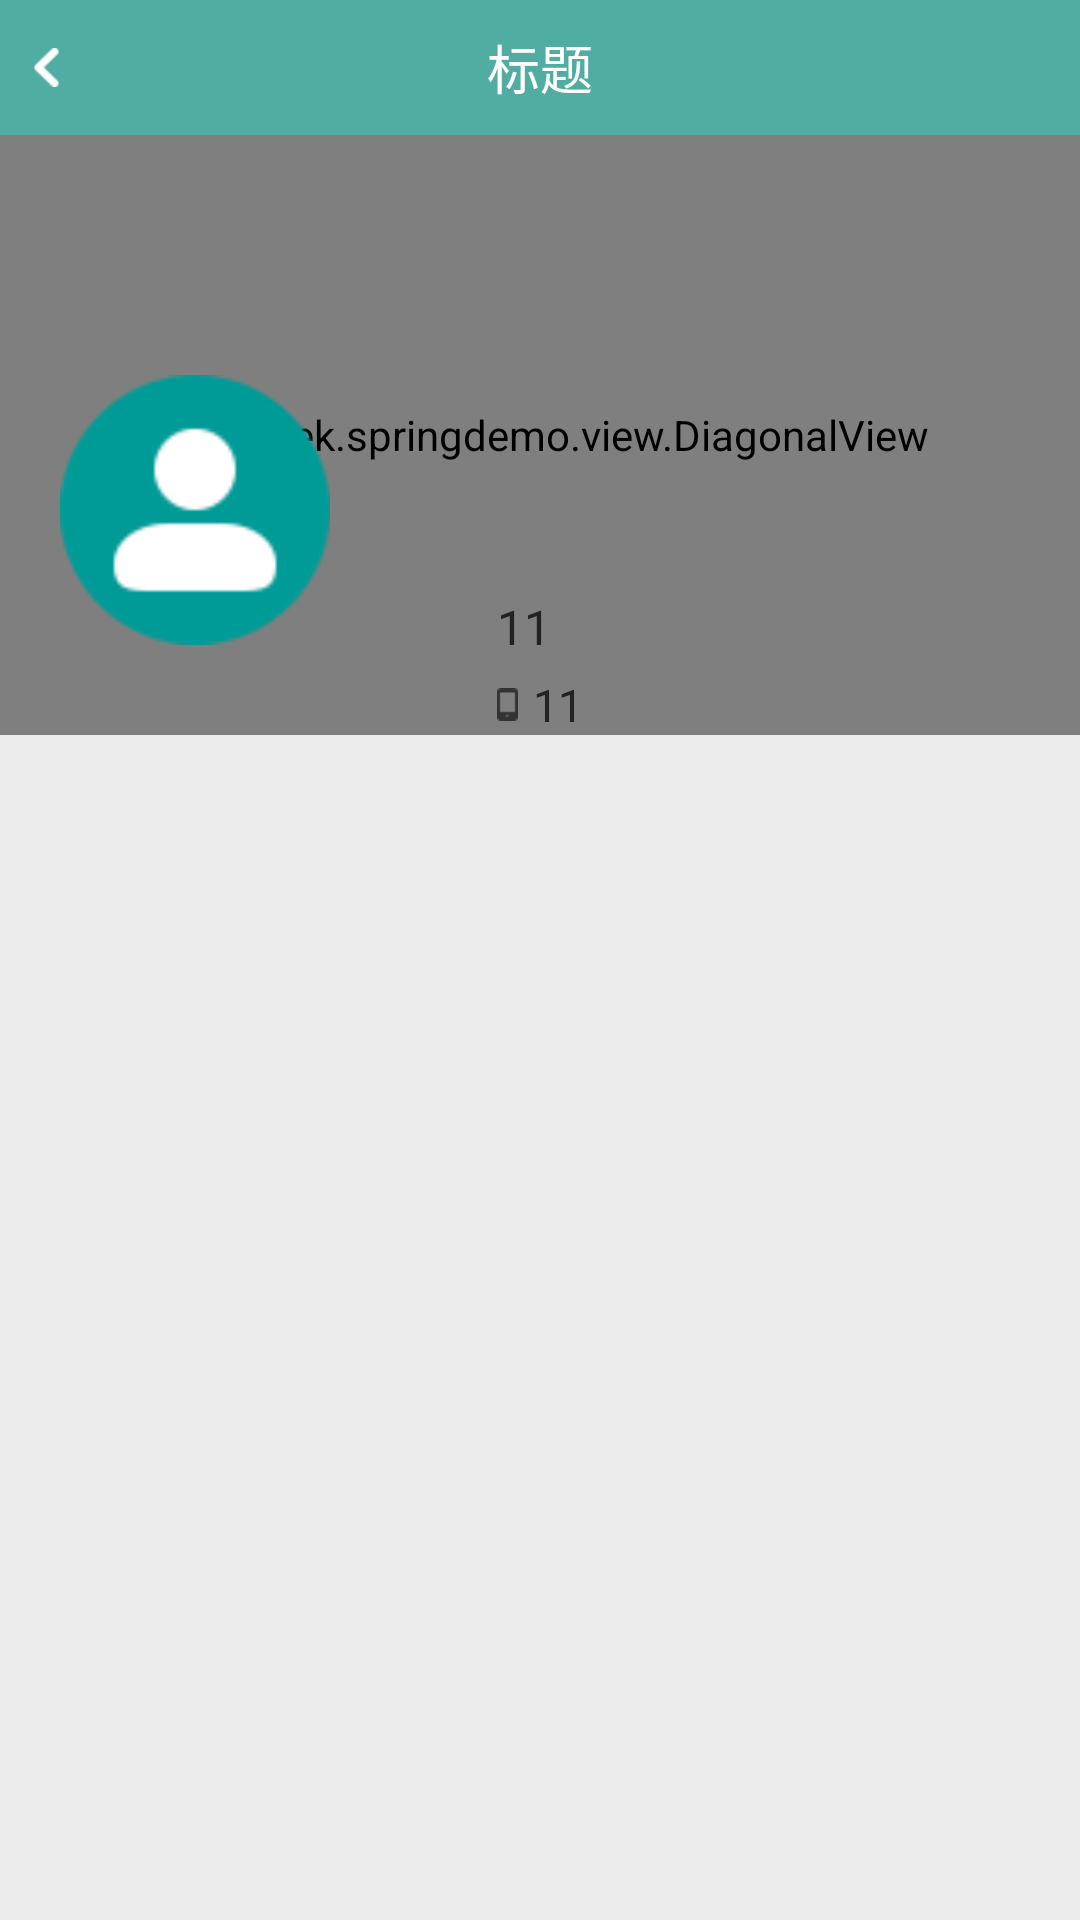

Screen size 1080w x 1920h. Icon name, then its center in pixels as (x,y):
autor: (195,510)
back index: (46,67)
